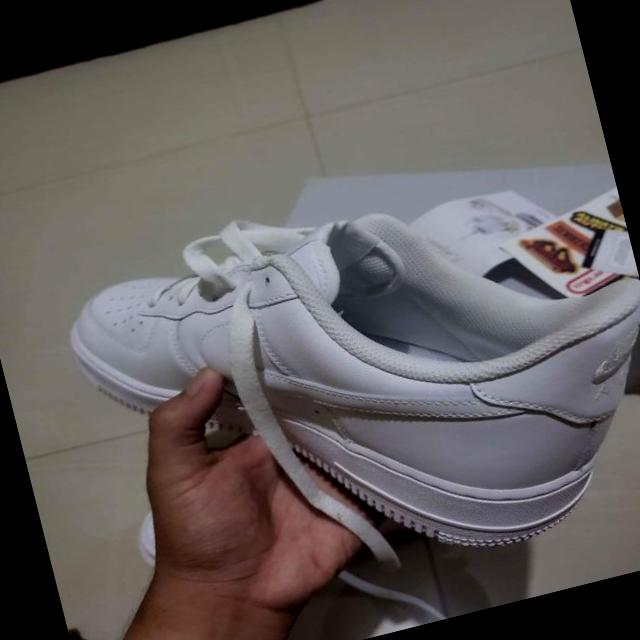nike_original_airforce: (47, 138, 640, 637)
